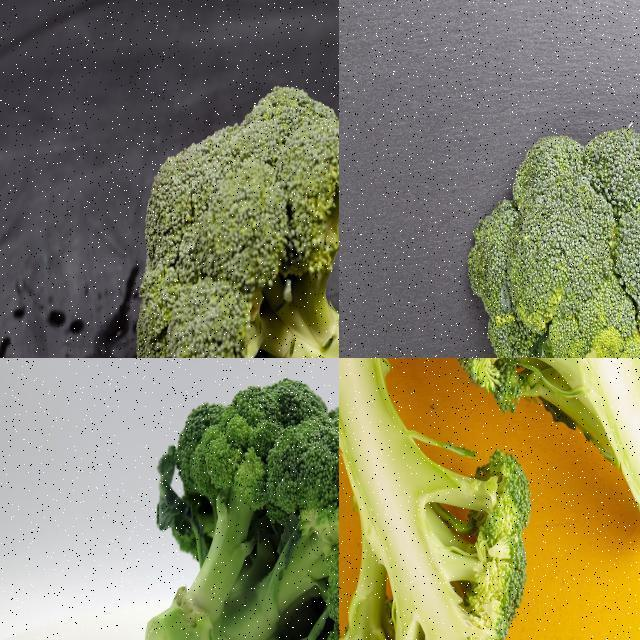broccoli: (131, 76, 338, 357), (339, 358, 537, 639), (142, 371, 338, 639), (464, 124, 639, 357), (450, 358, 639, 566)
